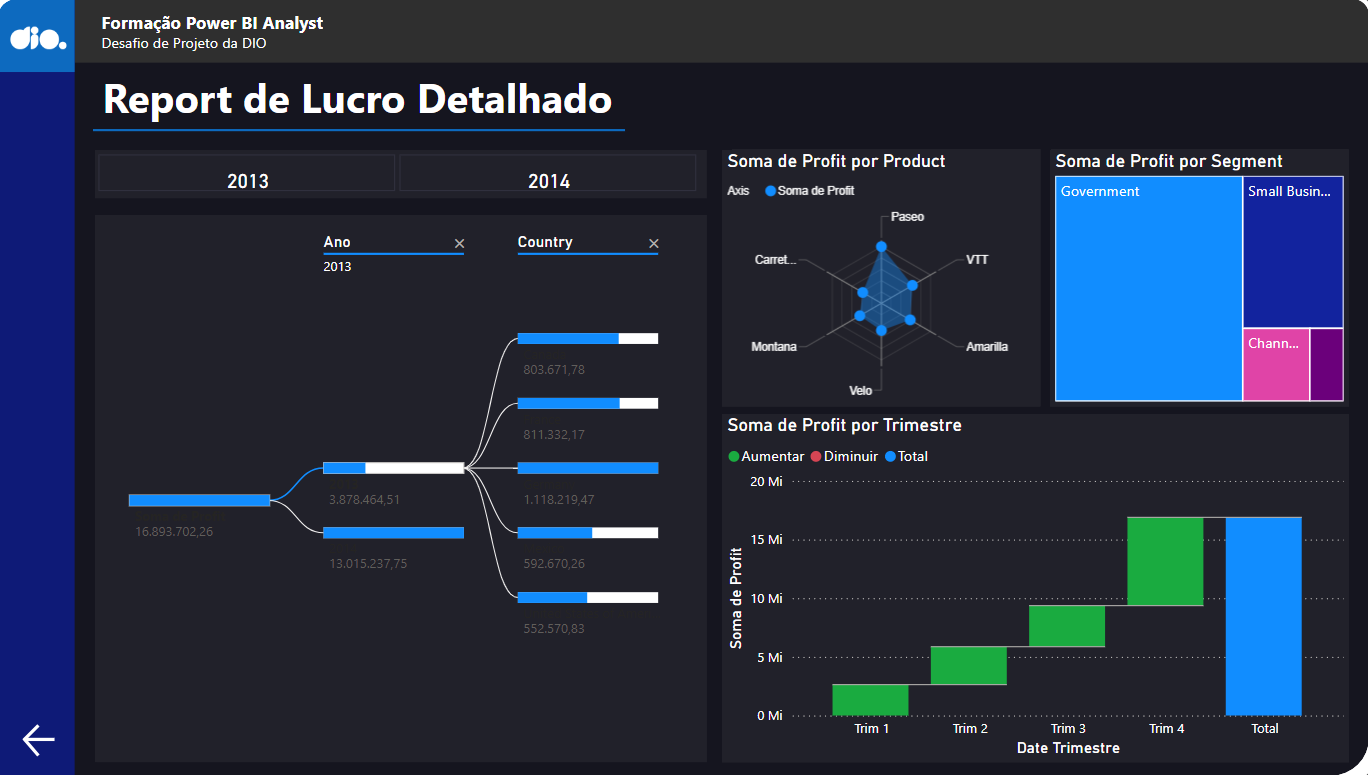

The page's visual inventory and layout, read from the dashboard file:
{"tool":"powerbi","page":{"name":"Página 2","canvas":[1280,720],"ordinal":1},"visuals":[{"type":"shape","box":[9.5,0.3,1270.5,719.7],"z":0},{"type":"shape","box":[9.5,0,71.4,719.7],"z":1000},{"type":"shape","box":[80.9,0,1199.1,59.5],"z":2000},{"type":"shape","box":[9.6,0,71.4,67.8],"z":3000},{"type":"image","box":[15.5,5.9,61.9,61.9],"z":5000},{"type":"textbox","box":[99.9,5.9,299.8,53.5],"z":5001},{"type":"actionButton","box":[27.4,667.4,39.8,39.8],"z":5002},{"type":"shape","box":[99.2,200.6,567,507],"z":5003},{"type":"shape","box":[99.2,139.6,567,44.7],"z":5004},{"type":"group","id":"g1","title":"Grupo 1","box":[97.1,60,500.7,76.5],"z":5005},{"type":"shape","box":[689.8,384.7,571.5,322.5],"z":5006},{"type":"shape","box":[689.8,139.5,286.4,237.8],"z":5007},{"type":"shape","box":[984.9,139.5,276.4,237.8],"z":5008},{"type":"decompositionTreeVisual","fields":{"Analyze":["Sum(financials.Profit)"],"ExplainBy":["financials.Date.Variation.Hierarquia de datas.Ano","financials.Country"]},"box":[101.4,200.6,564.8,507],"z":5009},{"type":"treemap","fields":{"Values":["Sum(financials.Profit)"],"Group":["financials.Segment"]},"box":[984.5,139.6,276.9,237.7],"z":5010},{"type":"waterfallChart","fields":{"Y":["Sum(financials.Profit)"],"Category":["financials.Date.Variation.Hierarquia de datas.Trimestre"]},"box":[680.3,384.9,581.1,322.7],"z":5011},{"type":"RadarChart1446119667547","fields":{"Y":["Sum(financials.Profit)"],"Category":["financials.Product"]},"box":[680.3,139.6,295.5,237.7],"z":5012},{"type":"advancedSlicerVisual","fields":{"Values":["financials.Date.Variation.Hierarquia de datas.Ano"]},"box":[97.1,139.5,565.3,44.8],"z":5015},{"type":"shape","box":[97.1,106.6,493.1,29.9],"z":11000,"group":"g1"},{"type":"textbox","box":[100.5,60,497.2,59.9],"z":12000,"group":"g1"}]}

Visuals, with their boxes on the page's 1280x720 design canvas (x1, y1, x2, y2). These are canvas units, not pixel positions in the 1368x775 screenshot, which may show the page scaled, cropped or inside an application window:
shape: 10/0/1280/720
shape: 10/0/81/720
shape: 81/0/1280/60
shape: 10/0/81/68
image: 16/6/77/68
textbox: 100/6/400/59
actionButton: 27/667/67/707
shape: 99/201/666/708
shape: 99/140/666/184
"Grupo 1" group: 97/60/598/136
shape: 690/385/1261/707
shape: 690/140/976/377
shape: 985/140/1261/377
decompositionTreeVisual - Sum(financials.Profit) x financials.Date.Variation.Hierarquia de datas.Ano: 101/201/666/708
treemap - Sum(financials.Profit) x financials.Segment: 984/140/1261/377
waterfallChart - Sum(financials.Profit) x financials.Date.Variation.Hierarquia de datas.Trimestre: 680/385/1261/708
RadarChart1446119667547 - Sum(financials.Profit) x financials.Product: 680/140/976/377
advancedSlicerVisual - financials.Date.Variation.Hierarquia de datas.Ano: 97/140/662/184
shape: 97/107/590/136
textbox: 100/60/598/120
